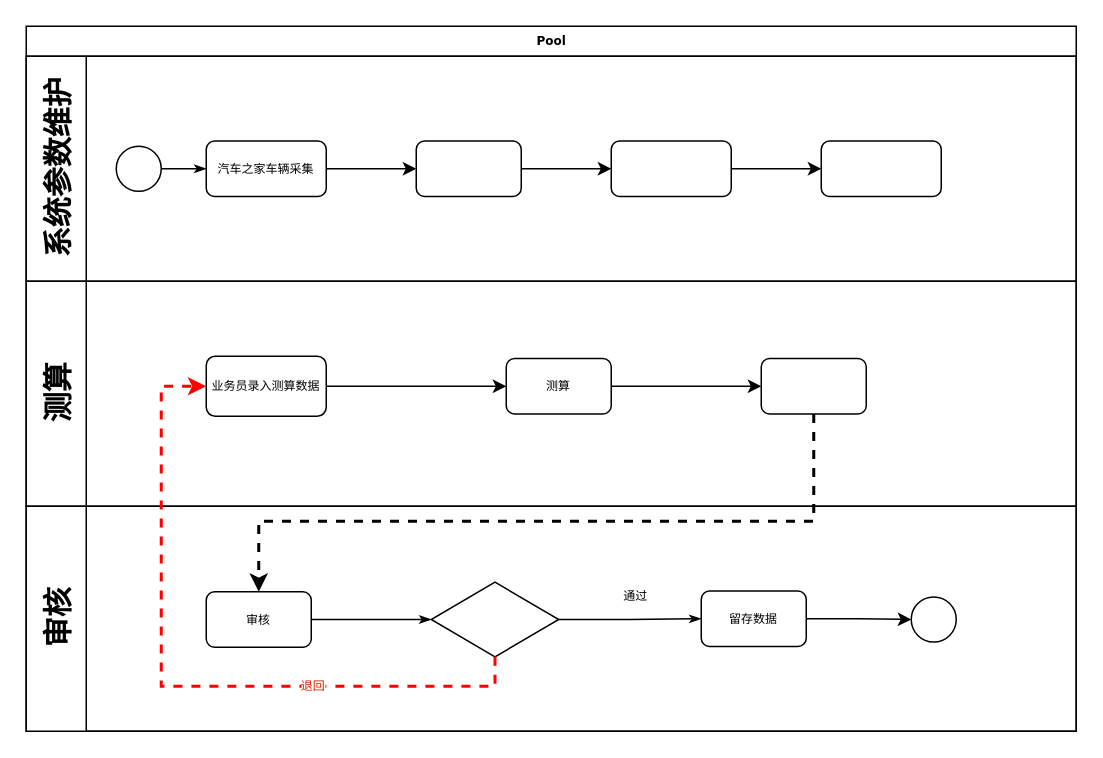
This 1103x758 diagram has some shape labels left out. The box of each missing label's shape, as (x1, y1, x2, y2) in pixels:
安保数据录入: (610, 140, 731, 196)
提交审核: (760, 357, 866, 414)
是否通过: (430, 581, 559, 657)
财务参数录入: (415, 140, 521, 196)
车管数据录入: (820, 140, 941, 196)
